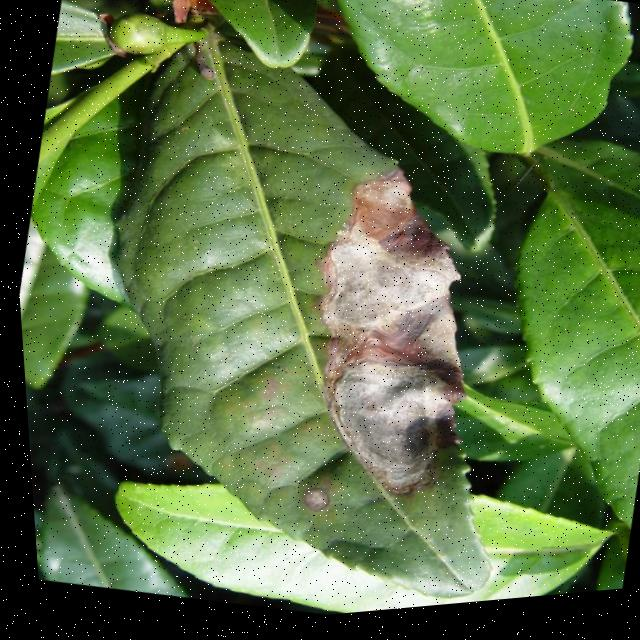Tea cloud leaf blight: (278, 152, 502, 522)
